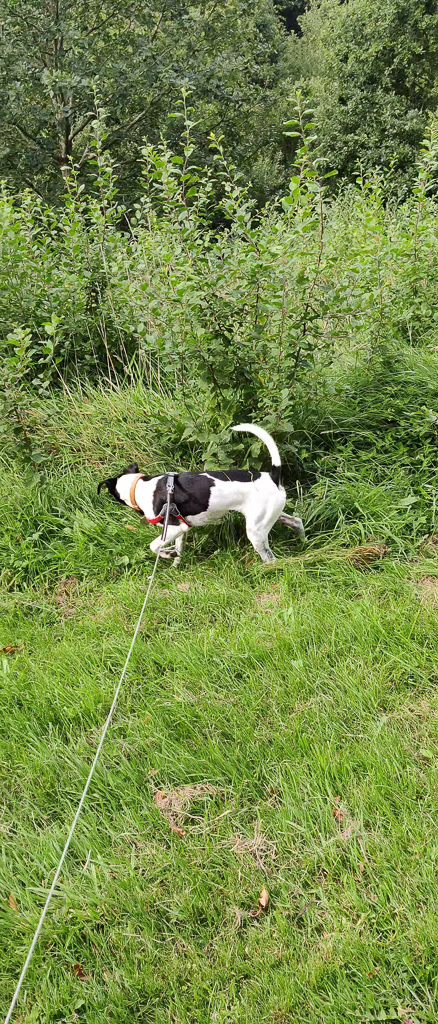Dog: (86, 416, 323, 575)
